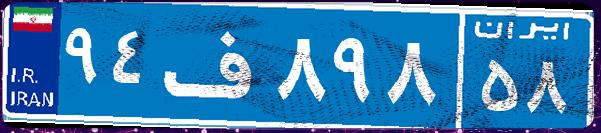4: (110, 28, 158, 105)
5: (475, 38, 525, 113)
8: (385, 28, 445, 110), (273, 28, 330, 110), (525, 38, 570, 115)
9: (330, 28, 385, 110), (57, 26, 110, 107)
ف: (158, 15, 273, 115)
